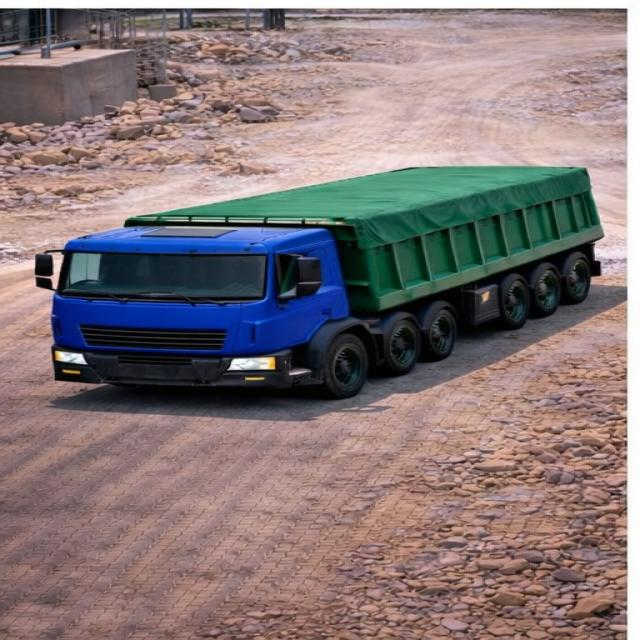trailer: (129, 162, 576, 226)
truck: (30, 151, 620, 386)
